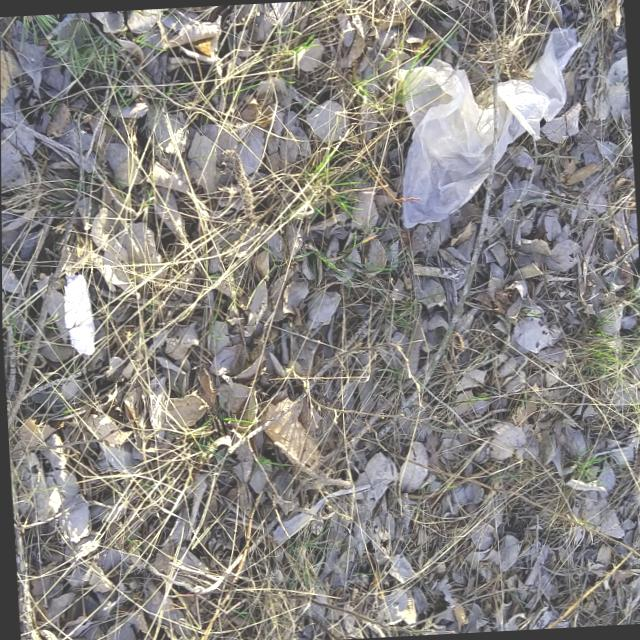Plastic: (373, 18, 601, 247), (49, 253, 106, 380)
